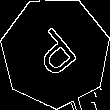P_SE: (26, 21, 85, 84)
